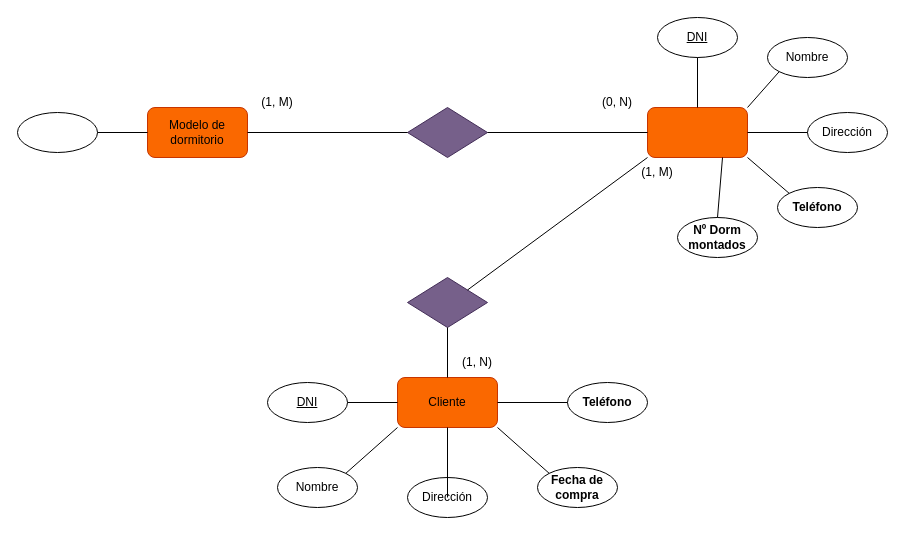
Some shapes in this 905 by 535 pixel diagram are drawn without their labels. The centre of each missing label's shape, as x and y in pixels:
"Compra" goes at [447,302].
"Código de modelo" goes at [57,132].
"Monta" goes at [447,132].
"Montador" goes at [697,132].
